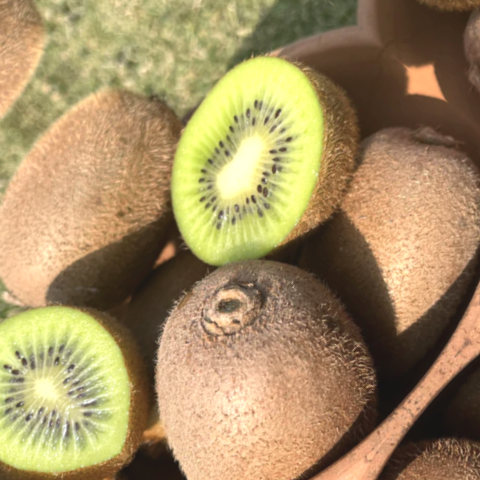kiwi: (57, 184, 438, 480), (0, 48, 249, 377)
